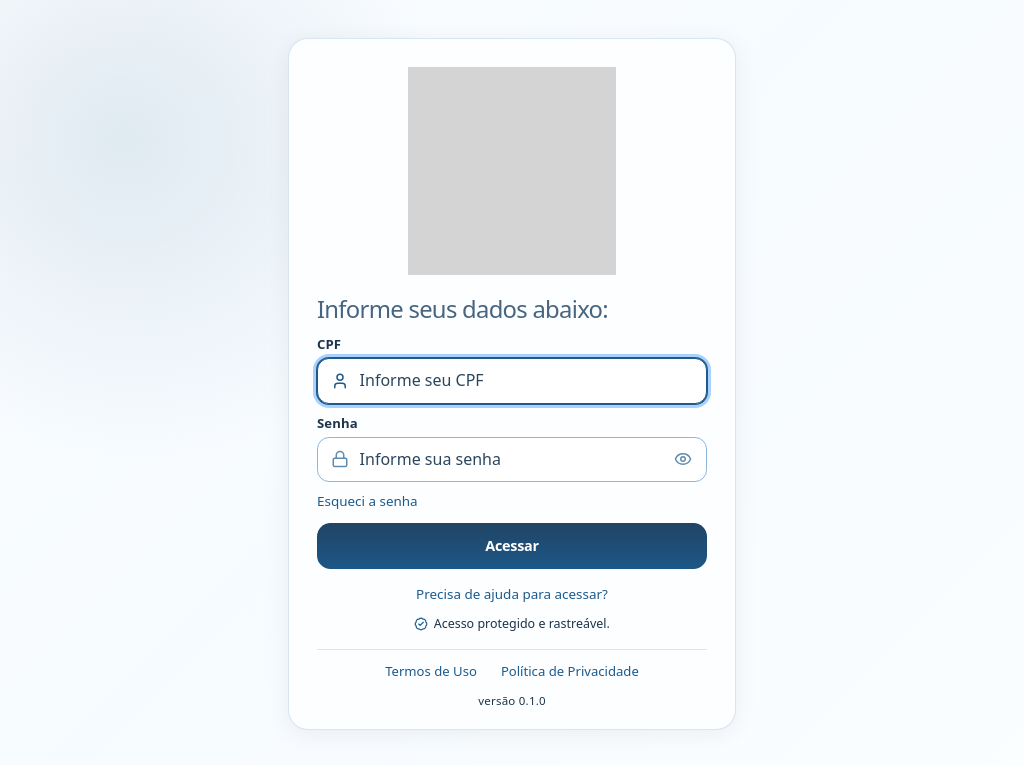
LoginPageClient › entra no estágio challenge quando login retorna mfaRequired
Type "12345678900" into the field labelled "CPF".
click(512, 381); type("12345678900")  # box [317,358,707,404]
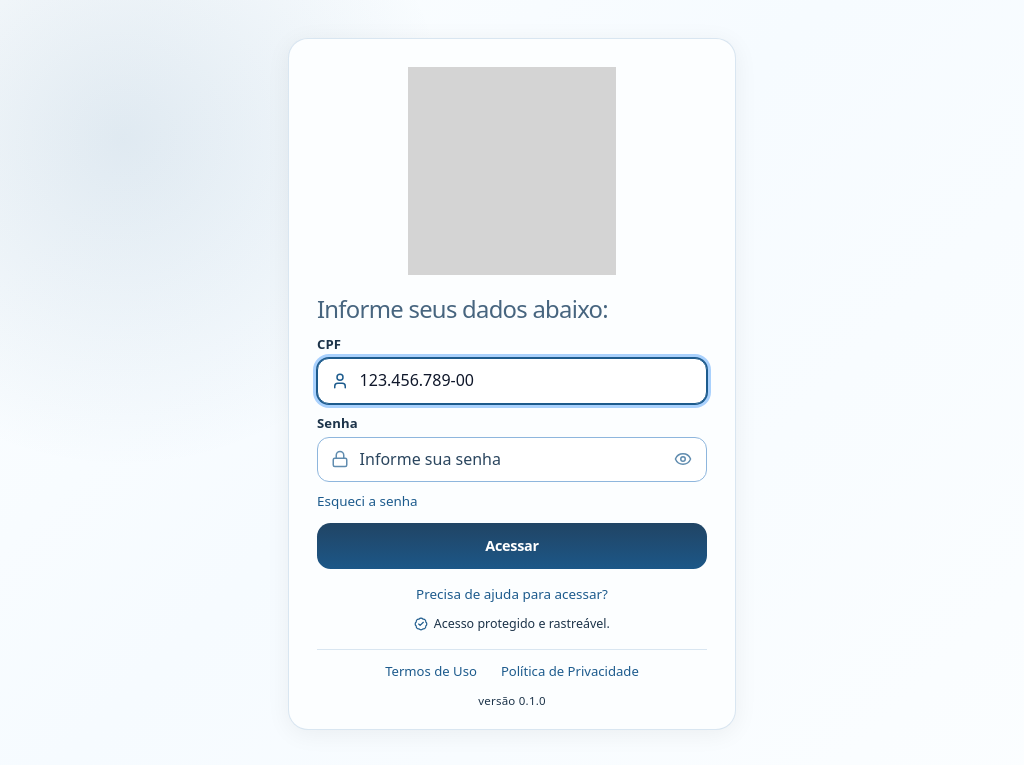
Type "Senha@123" into the password field labelled "Senha".
click(512, 459); type("Senha@123")  # box [317,436,707,482]
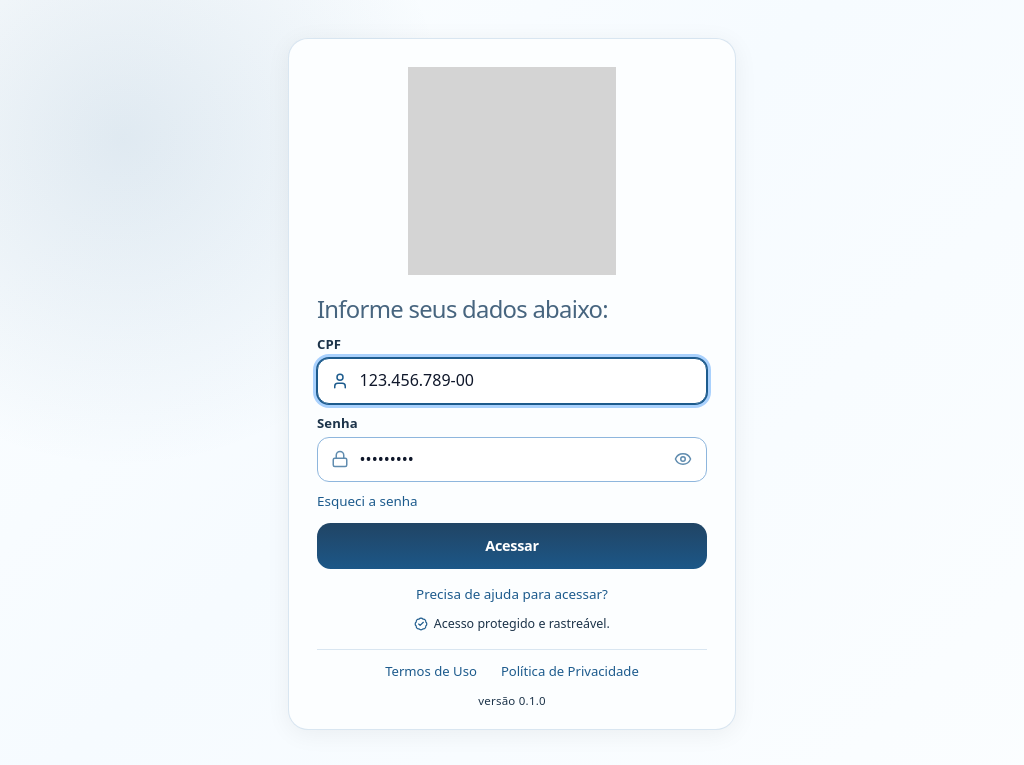
Click the button "Acessar".
click(512, 546)  # box [317,523,707,569]
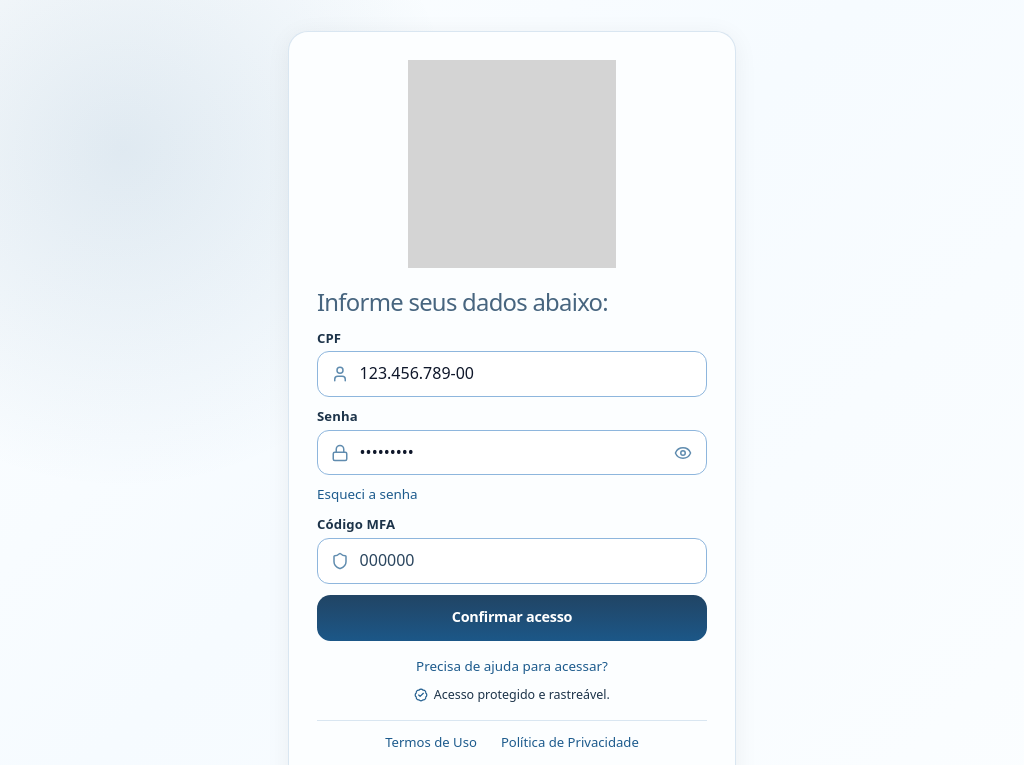
Check: the field labelled "Código MFA" is shown, box [317,538,707,584]
Check: the button "Confirmar acesso" is shown, box [317,595,707,640]
